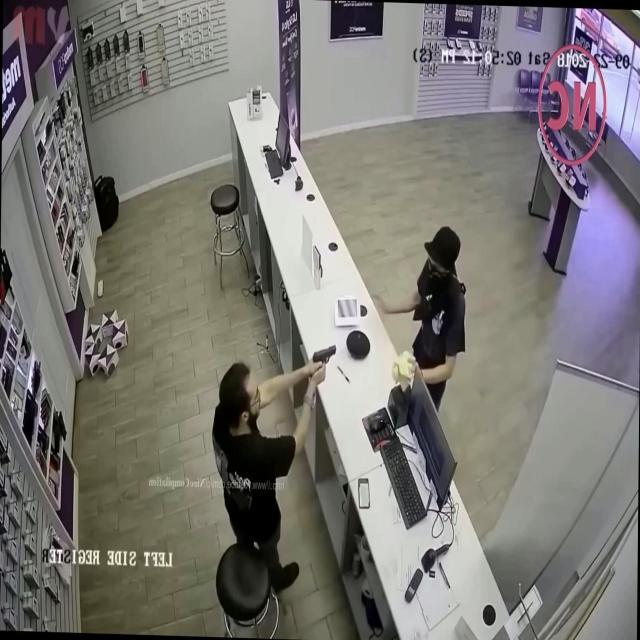pistol: (312, 343, 338, 365)
